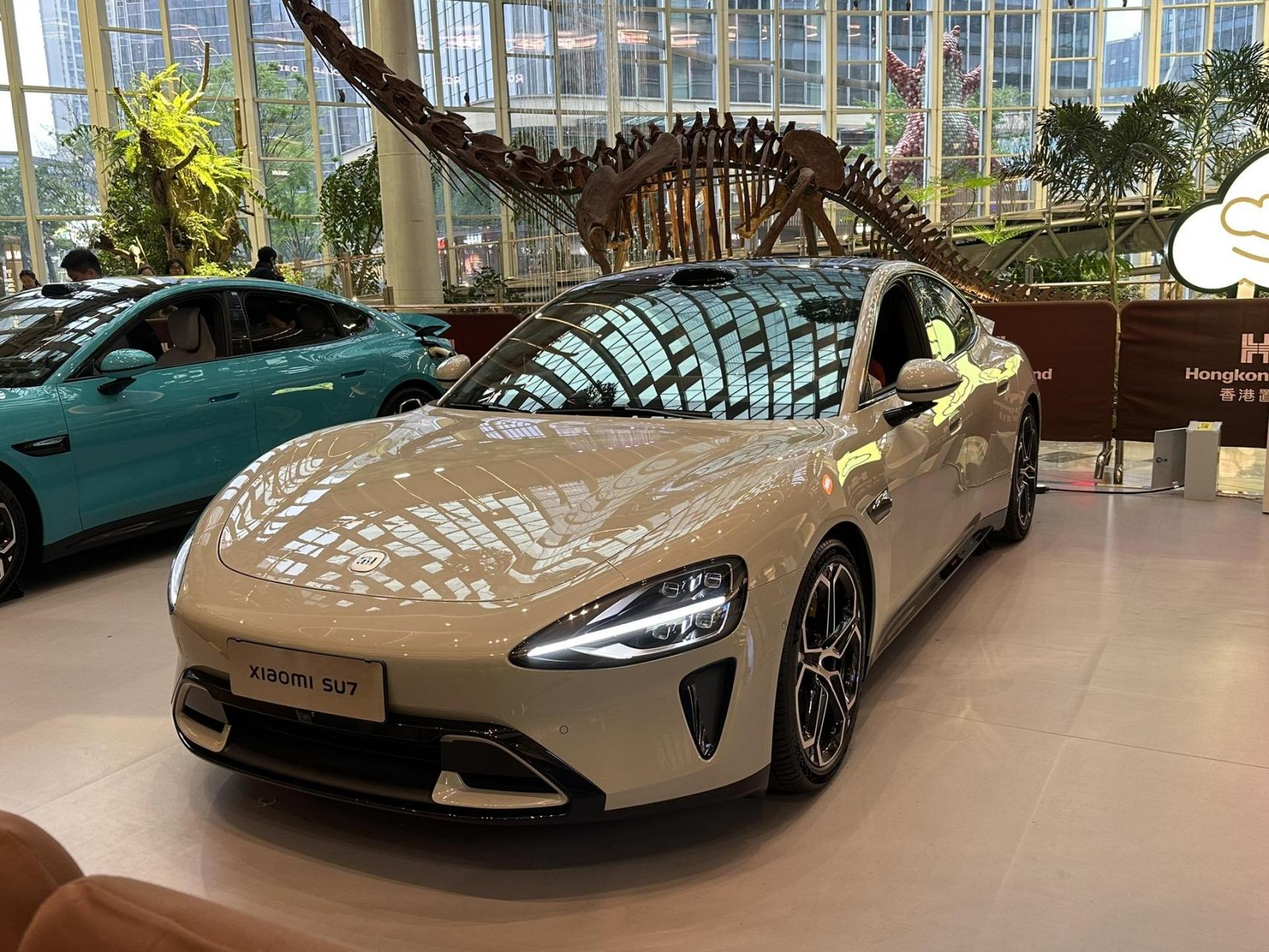su7: (152, 257, 1043, 835), (1, 268, 459, 595)
